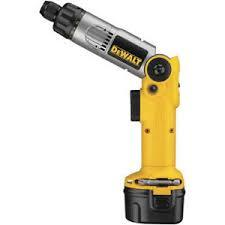screwdriver: (37, 0, 184, 224), (136, 178, 181, 184)
